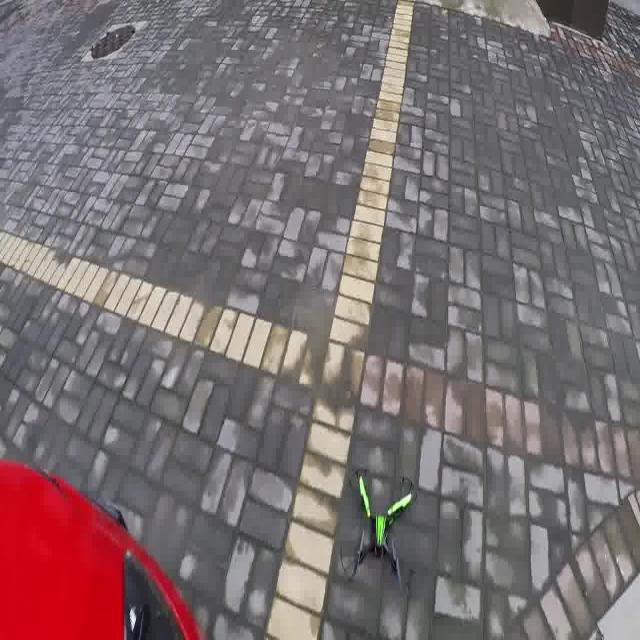drone: (339, 465, 422, 602)
